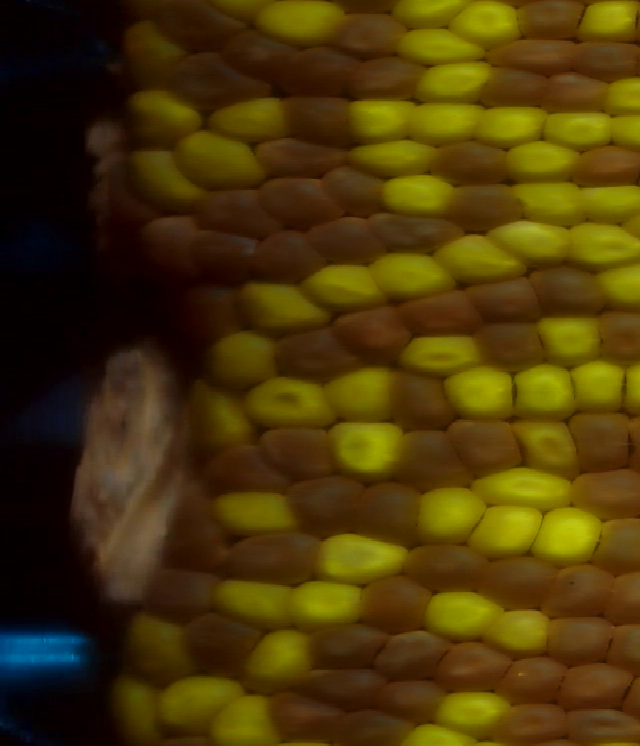fluorescent: (236, 276, 331, 333), (177, 128, 266, 188), (122, 607, 191, 682), (434, 233, 533, 285), (241, 625, 312, 695), (205, 330, 279, 393), (157, 674, 234, 734), (326, 420, 407, 477), (128, 149, 202, 211), (442, 365, 524, 420), (473, 501, 546, 562), (475, 467, 576, 511), (533, 507, 604, 569), (317, 534, 409, 581), (246, 375, 331, 425), (415, 485, 487, 544), (298, 266, 388, 313), (212, 576, 297, 625), (488, 217, 571, 267), (424, 587, 503, 639), (288, 577, 367, 629), (209, 490, 298, 535), (125, 88, 194, 145), (334, 369, 404, 425), (252, 1, 345, 43), (510, 359, 575, 418), (512, 418, 577, 477), (108, 670, 158, 746), (372, 253, 458, 296), (121, 16, 182, 76), (414, 59, 491, 106), (563, 219, 640, 266), (535, 312, 604, 364), (482, 608, 555, 657), (507, 181, 588, 225), (397, 25, 486, 65), (399, 330, 479, 374), (473, 102, 551, 146), (212, 693, 278, 745), (436, 687, 509, 734), (570, 355, 629, 413), (346, 138, 434, 175), (540, 107, 614, 151), (505, 141, 582, 183), (381, 174, 455, 217), (213, 99, 288, 140), (452, 2, 523, 44), (415, 102, 493, 140), (349, 96, 413, 139), (576, 2, 640, 43), (204, 390, 249, 445), (583, 182, 640, 223), (600, 262, 640, 311), (604, 75, 640, 112)
nonfluorescent: (168, 48, 279, 107), (221, 528, 318, 585), (158, 501, 229, 575), (396, 424, 476, 487), (338, 304, 415, 369), (272, 329, 360, 383), (178, 281, 256, 341), (447, 176, 529, 233), (446, 418, 526, 475), (435, 638, 512, 697), (368, 206, 460, 255), (256, 175, 346, 225), (284, 476, 360, 535), (530, 262, 607, 320), (467, 272, 546, 328), (275, 48, 358, 101), (404, 540, 487, 592), (193, 187, 279, 237), (305, 213, 386, 266), (355, 481, 423, 544), (394, 293, 484, 340), (191, 617, 257, 681), (557, 657, 635, 711), (383, 371, 455, 429), (258, 425, 338, 477), (479, 555, 554, 609), (307, 623, 391, 671), (157, 1, 240, 49), (349, 51, 424, 104), (284, 92, 354, 148), (477, 37, 582, 74), (375, 627, 451, 678), (302, 661, 383, 708), (433, 138, 512, 186), (255, 228, 325, 282), (565, 469, 640, 519), (549, 562, 618, 616), (254, 138, 346, 178), (205, 444, 277, 495), (360, 576, 428, 630), (140, 214, 202, 272), (567, 411, 631, 467), (547, 607, 612, 662), (145, 571, 219, 619), (198, 230, 262, 285), (320, 166, 386, 218), (333, 9, 405, 56), (505, 655, 572, 703), (479, 64, 549, 109), (545, 67, 609, 116), (572, 140, 640, 186), (573, 35, 638, 82), (228, 28, 291, 75), (496, 702, 572, 739), (514, 1, 586, 40), (568, 706, 640, 745), (377, 678, 440, 722), (594, 306, 640, 366), (596, 519, 640, 571), (608, 564, 640, 624), (610, 620, 640, 676)
